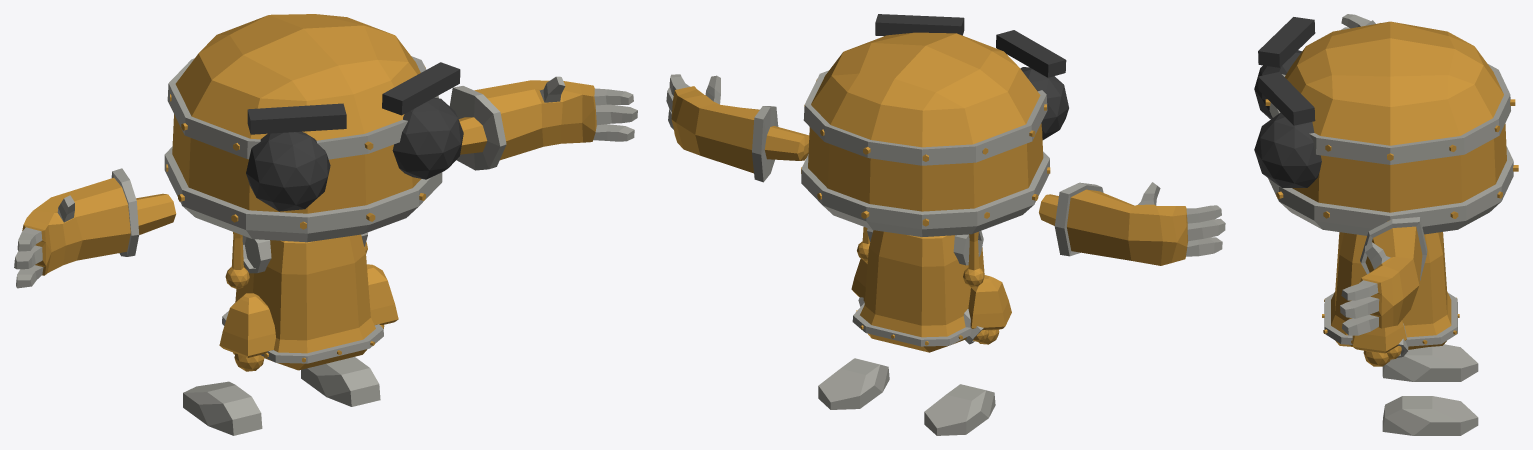
File: expressive_bot.glb
3 renders of one model, left to right at view 1: azimuth 30°, elevation 25°; view 2: azimuth 150°, elevation 25°; view 3: azimuth 270°, elevation 25°, orthographic. The views are drawn at different scales.
Visible parts, largest first — view 1: Head, Torso, Hand.L, Hand.R, LowerLeg.R, Foot.R, Foot.L, LowerLeg.L, Leg.R; view 2: Head, Torso, Hand.R, Hand.L, Foot.R, Foot.L, LowerLeg.R, Leg.R; view 3: Head, Hand.L, Torso, Foot.L, Foot.R, LowerLeg.L, Hand.R.
Part boxes in pixels (<box>): Head: <box>164,14,463,242</box>; Torso: <box>222,232,383,370</box>; Hand.L: <box>449,76,637,170</box>; Hand.R: <box>14,168,176,288</box>; LowerLeg.R: <box>219,293,275,371</box>; Foot.R: <box>183,381,262,435</box>; Foot.L: <box>301,356,380,406</box>; LowerLeg.L: <box>367,264,398,328</box>; Leg.R: <box>225,232,249,288</box>; Head: <box>801,14,1068,236</box>; Torso: <box>852,228,988,352</box>; Hand.R: <box>1039,182,1225,265</box>; Hand.L: <box>666,74,809,182</box>; Foot.R: <box>924,384,995,435</box>; Foot.L: <box>818,358,889,409</box>; LowerLeg.R: <box>968,275,1011,344</box>; Leg.R: <box>963,231,984,286</box>; Head: <box>1254,17,1518,235</box>; Hand.L: <box>1340,217,1427,335</box>; Torso: <box>1322,232,1459,359</box>; Foot.L: <box>1382,396,1478,435</box>; Foot.R: <box>1382,344,1478,381</box>; LowerLeg.L: <box>1352,320,1406,366</box>; Hand.R: <box>1340,14,1380,30</box>.
Bounding box in the file's own units: 1.18 × 0.6998 × 0.4654.
